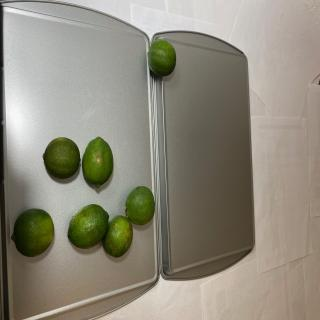Lemon: (11, 208, 54, 257), (67, 204, 109, 249), (82, 136, 114, 188), (102, 215, 133, 258), (125, 186, 155, 226), (147, 38, 176, 76)
